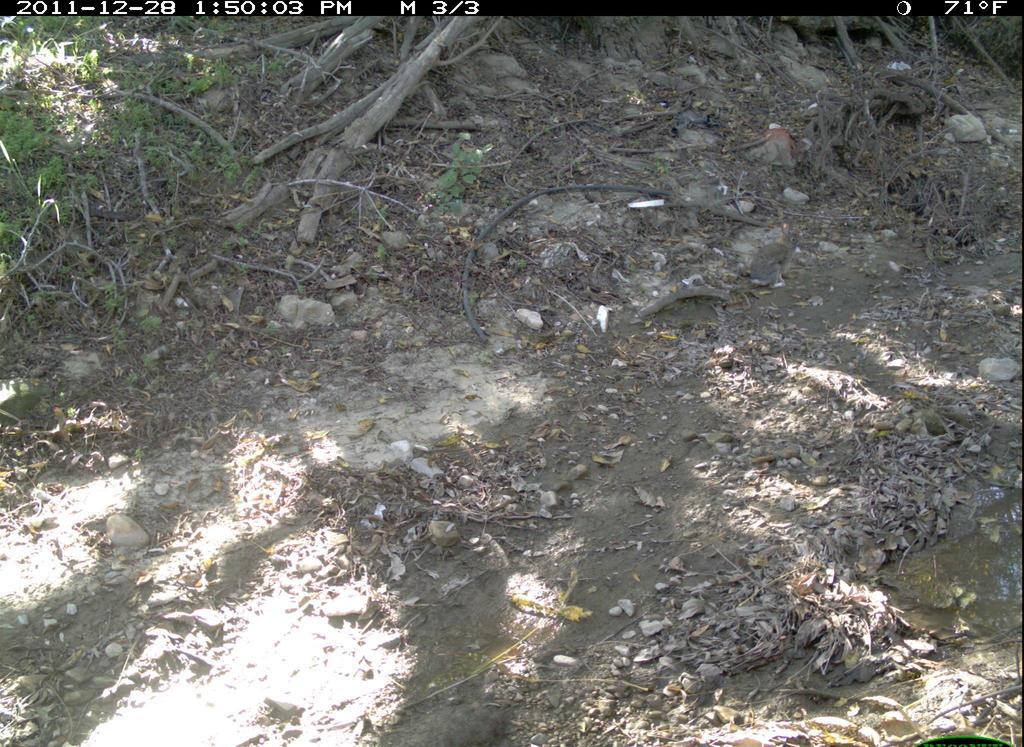rabbit: (743, 221, 833, 294)
